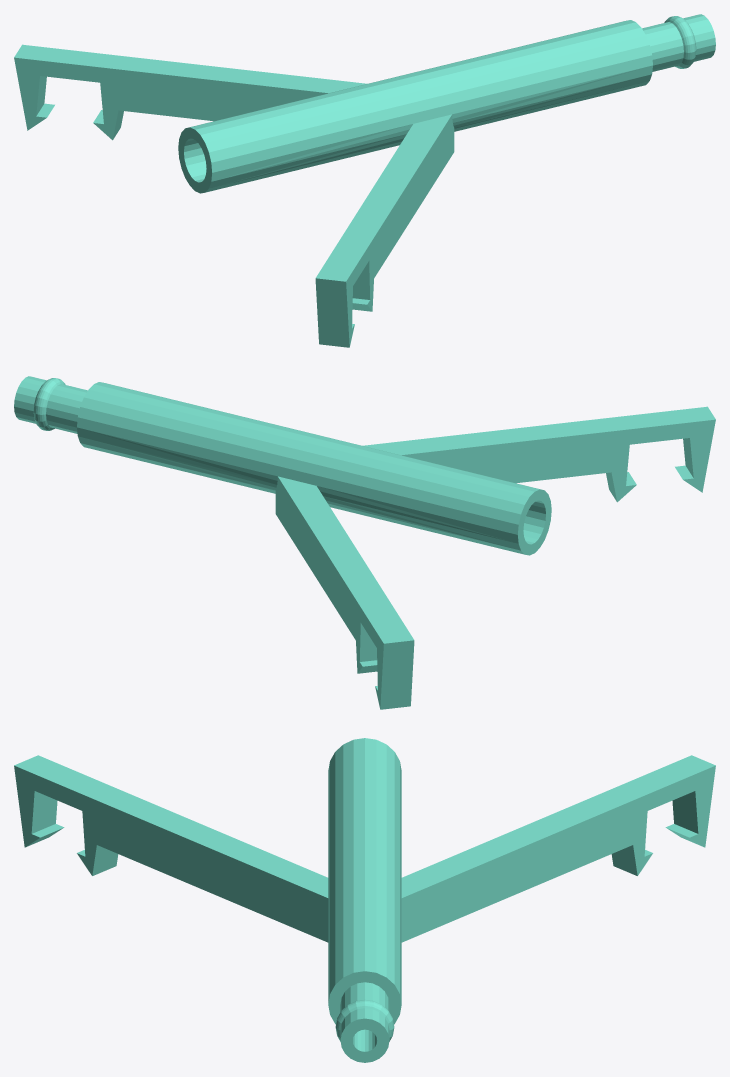
File: EndEffector.dae
3 renders of one model, top to bottom at view 1: azimuth 30°, elevation 25°; view 2: azimuth 150°, elevation 25°; view 3: azimuth 270°, elevation 25°, orthographic. The views are drawn at different scales.
Parts seen in each view (by area): view 1: REAL_EE_JSW; view 2: REAL_EE_JSW; view 3: REAL_EE_JSW.
Part boxes in pixels (x1,y1,x2,y2): REAL_EE_JSW: (14,14,715,347); REAL_EE_JSW: (14,376,715,709); REAL_EE_JSW: (14,738,715,1062).
Size of the model in its own units: 55.11 by 57.26 by 10.
